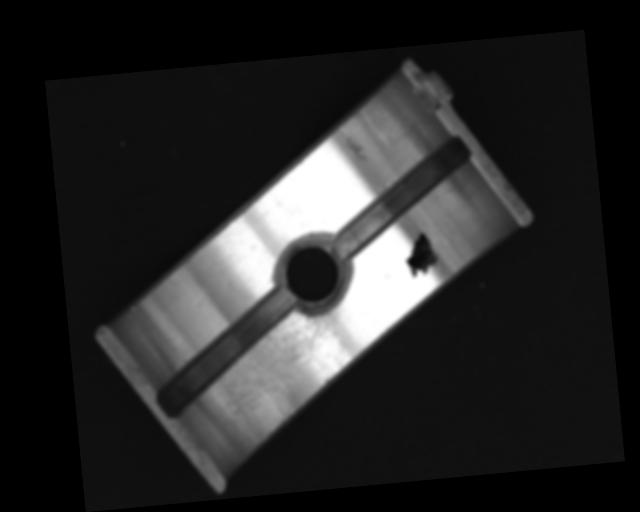blot: (401, 229, 439, 278)
bruise: (343, 135, 369, 165)
gap: (147, 285, 304, 416), (327, 133, 479, 257)
hole: (269, 231, 355, 318)
scratch: (205, 302, 351, 451)
